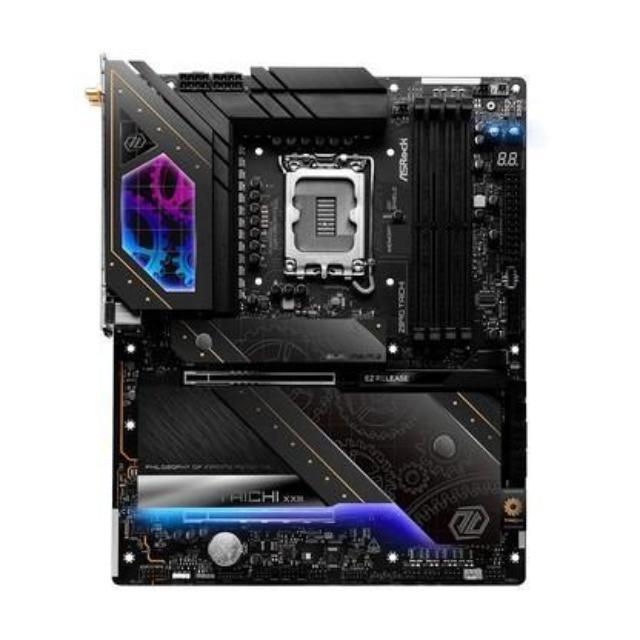Mainboard: (85, 42, 548, 606)
